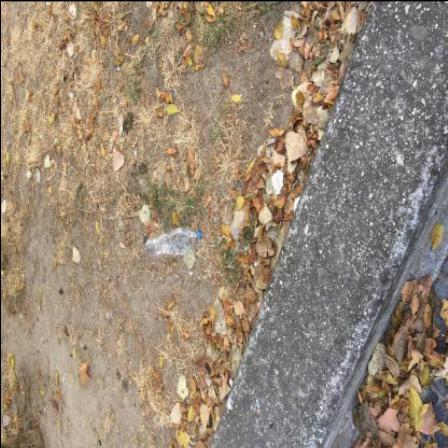Bottle: (144, 227, 202, 260)
Cigarette: (237, 6, 242, 12), (148, 408, 150, 416), (14, 95, 16, 98)
